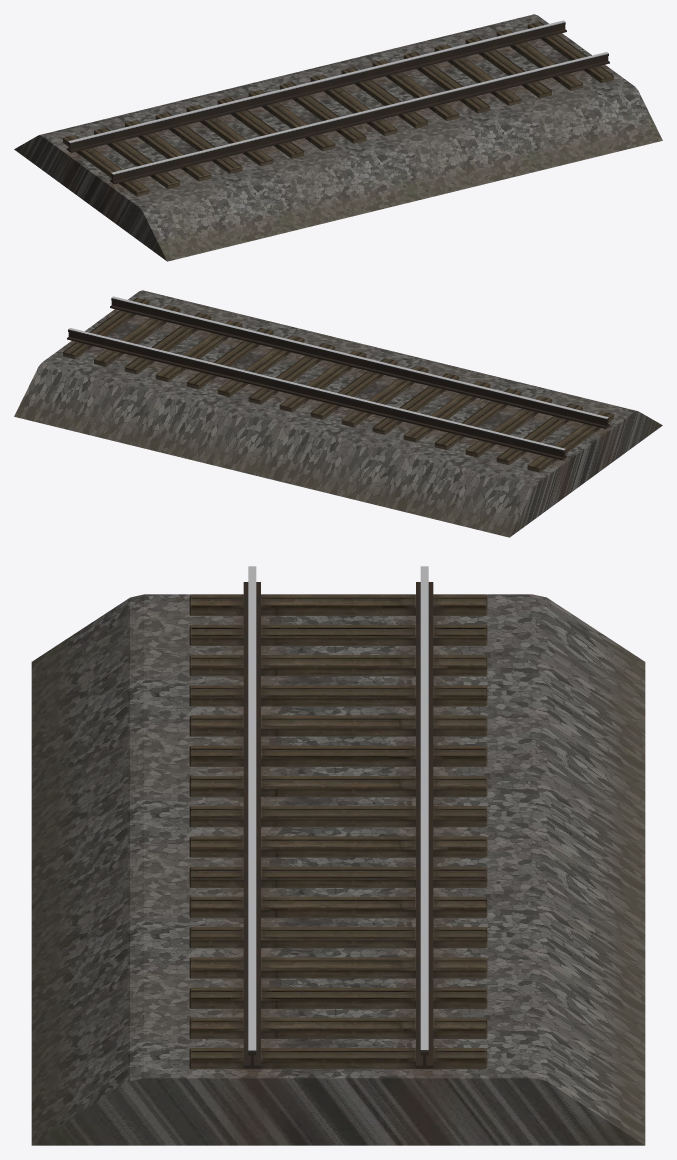
Rendered from rail-track-wood.glb.
3 views of the same model, one above another, from view 1: azimuth 30°, elevation 25°; view 2: azimuth 150°, elevation 25°; view 3: azimuth 270°, elevation 25° (orthographic). The views are drawn at different scales.
Visible parts, largest first — view 1: rail-track-wood; view 2: rail-track-wood; view 3: rail-track-wood.
Boxes of the visible parts, x1,y1,x2,y2 form: rail-track-wood: (14,14,662,261); rail-track-wood: (14,290,662,537); rail-track-wood: (31,566,645,1145).
Bounding box in the file's own units: 10 × 0.9204 × 5.36.
1 material, 1 textured.
